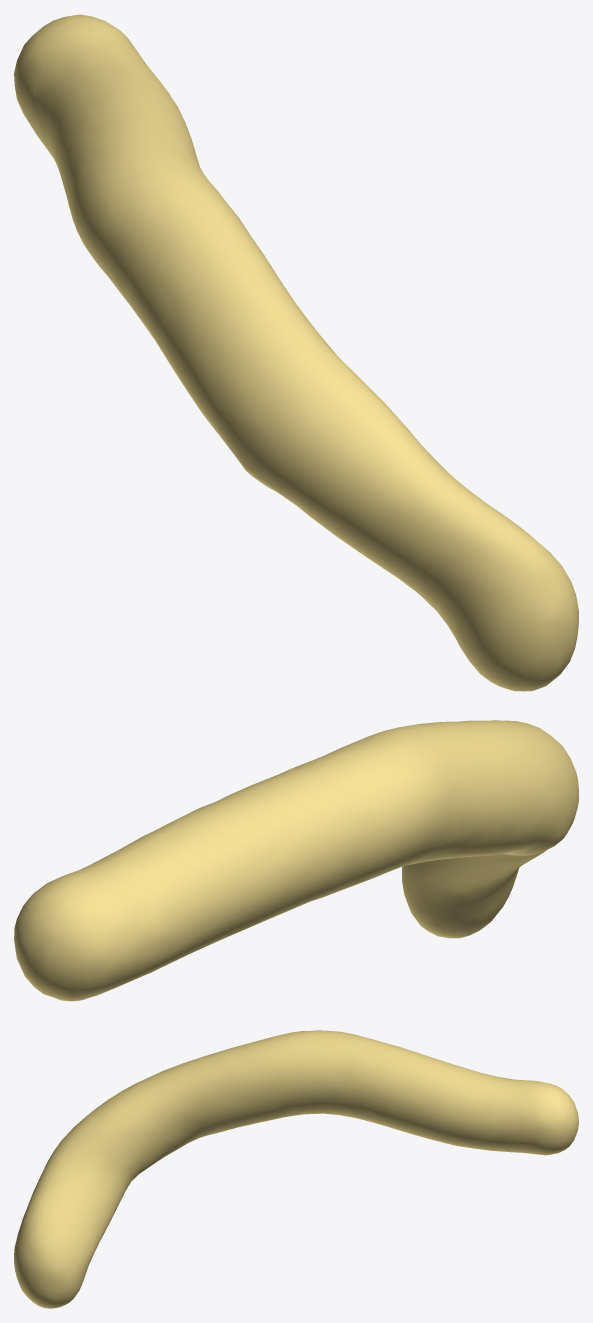
The model's file is fma73387_mm2970m.glb.
3 renders of one model, top to bottom at view 1: azimuth 30°, elevation 25°; view 2: azimuth 150°, elevation 25°; view 3: azimuth 270°, elevation 25°, orthographic. The views are drawn at different scales.
Visible parts, largest first — view 1: FMA73387_MM2970M; view 2: FMA73387_MM2970M; view 3: FMA73387_MM2970M.
Boxes of the visible parts, x1,y1,x2,y2 form: FMA73387_MM2970M: [14, 14, 578, 691]; FMA73387_MM2970M: [14, 720, 578, 1001]; FMA73387_MM2970M: [14, 1030, 578, 1308].
Bounding box in the file's own units: 0.00489 × 0.00727 × 0.0161.
